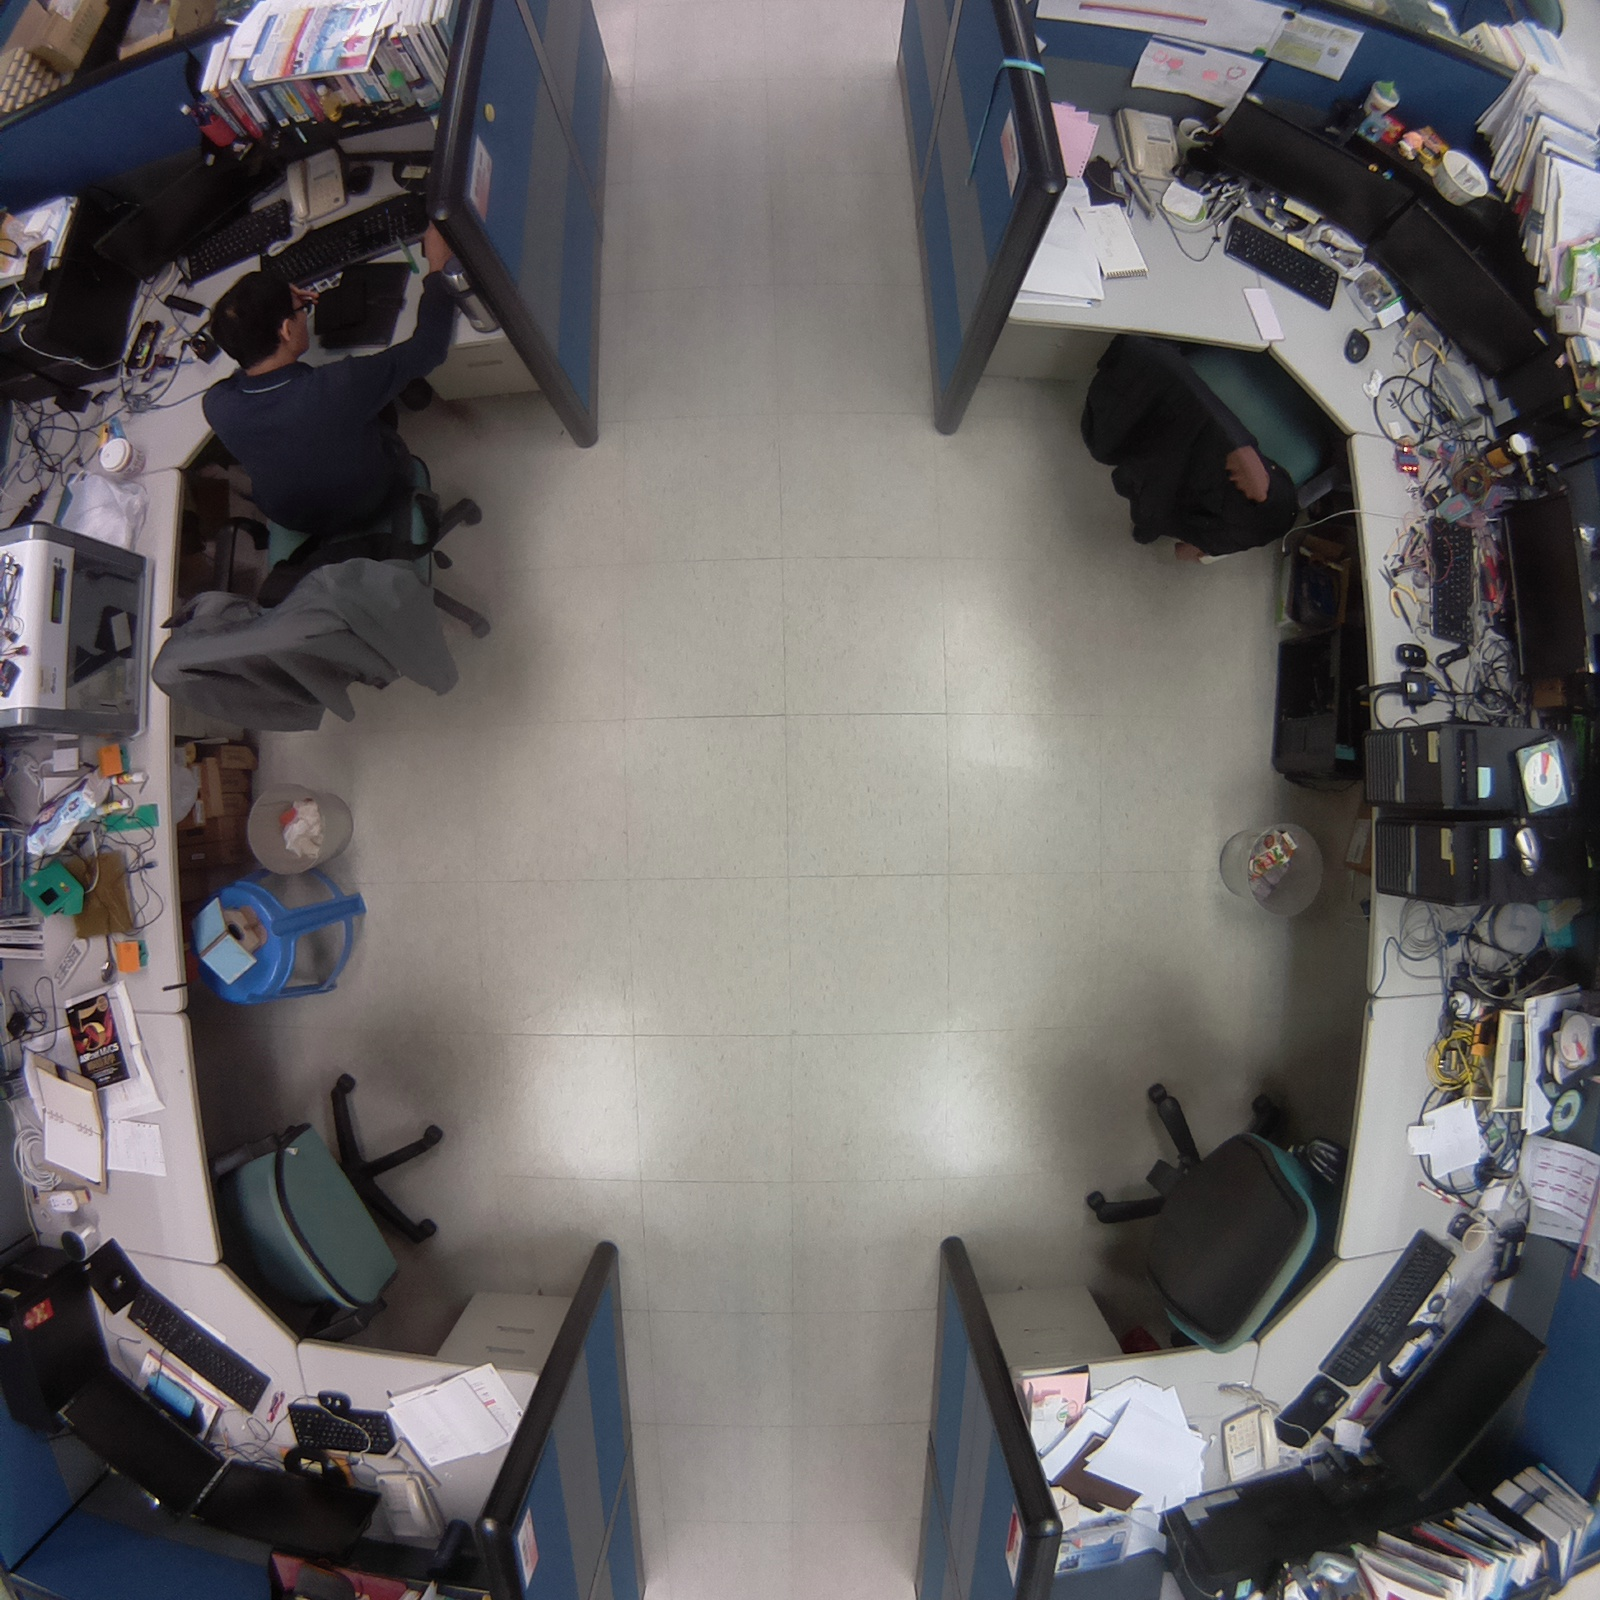chair: (1073, 1059, 1354, 1373), (1073, 308, 1383, 580), (199, 1051, 463, 1342)
sitting: (132, 204, 508, 752)
